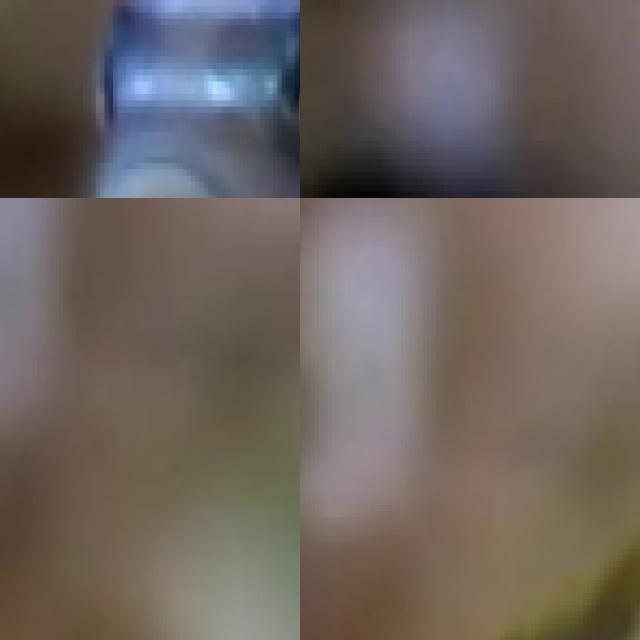fish: (0, 0, 300, 198), (300, 9, 582, 198), (300, 498, 640, 640)
